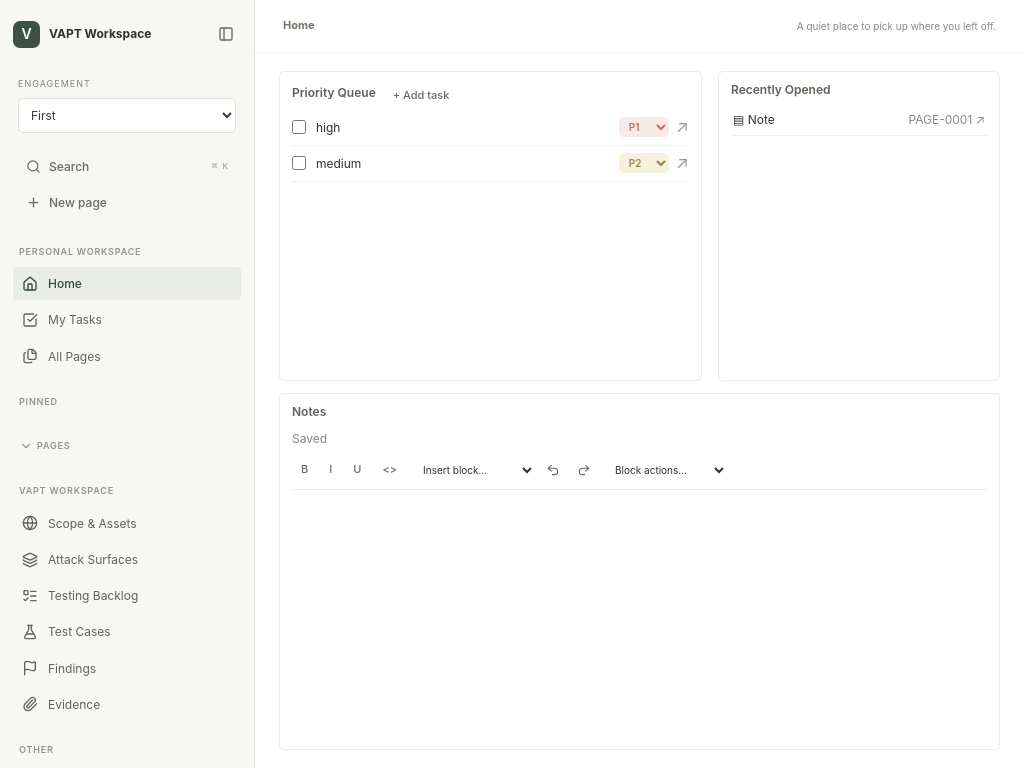
Test: Phase 1 components › Home keeps task creation compact and restores the quiet shared header
The image size is (1024, 768).
Check: the text "A quiet place to pick up where you left off." is shown, box [797,18,996,34]
Check: the header shows "Home", box [283,18,315,32]
Click the button "+ Add task" at (421, 96), box [384,82,458,110]
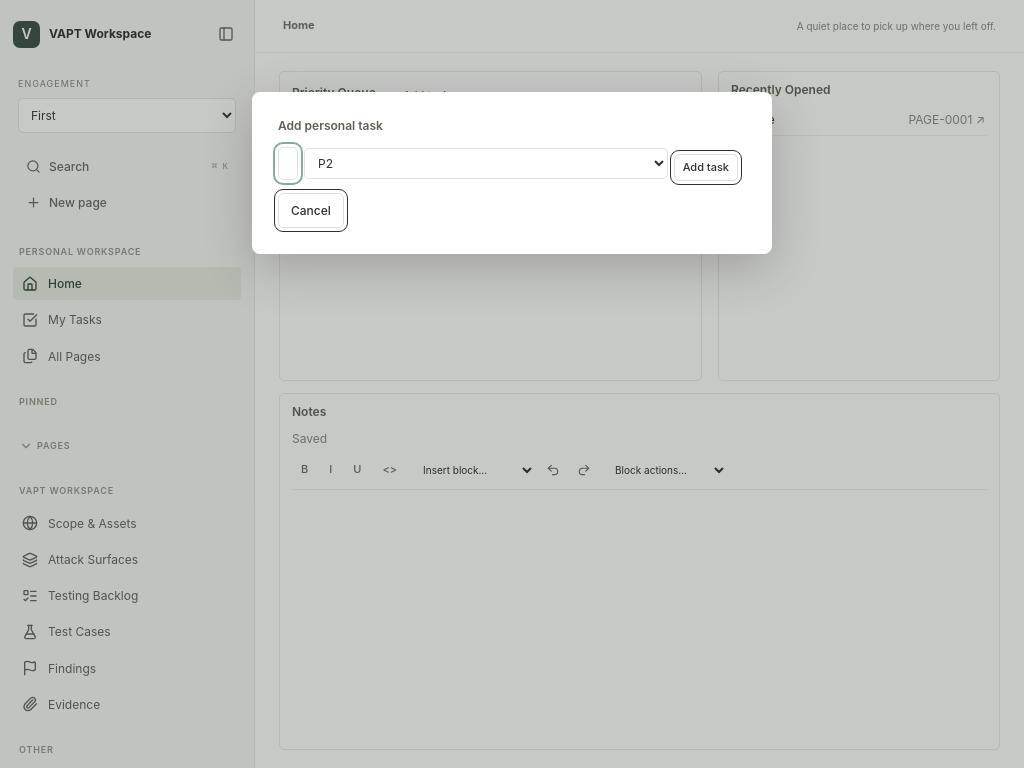
Check: the dialog "Add personal task" is shown, box [252,92,772,254]
Check: the field named "New personal task" is shown, box [278,147,298,180]
